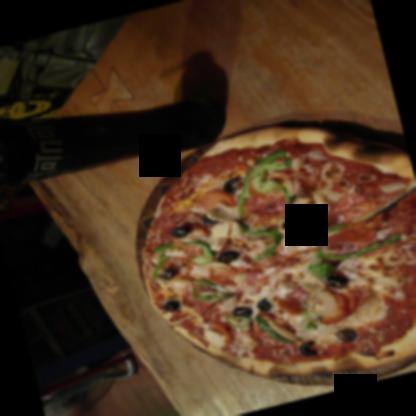handbag: (0, 13, 131, 88)
